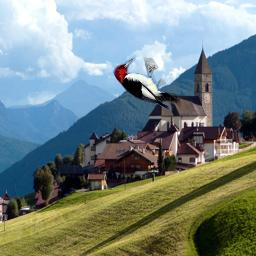Woodpecker: (106, 55, 183, 113)
